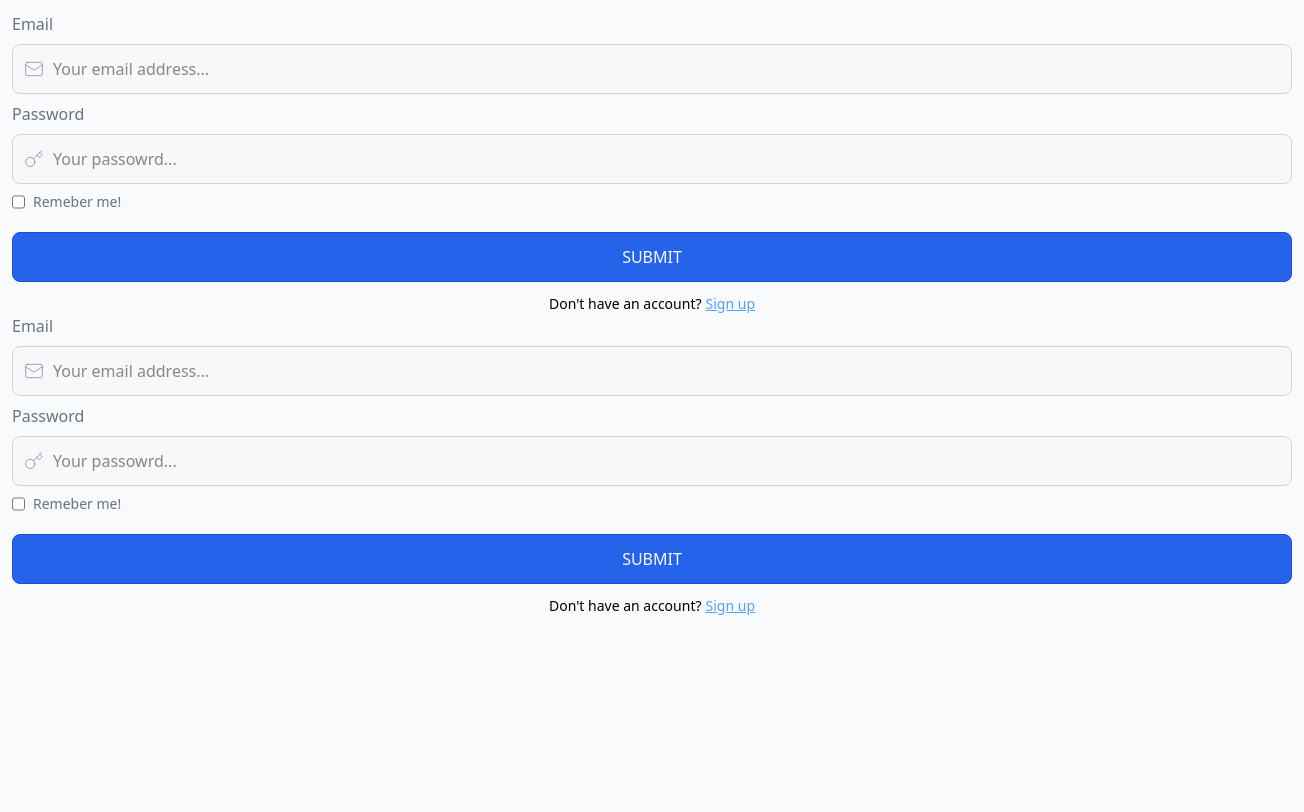
Test: Login Form › check validation › email validation
Click the 1st button "SUBMIT": (652, 257) [12, 232, 1292, 282]
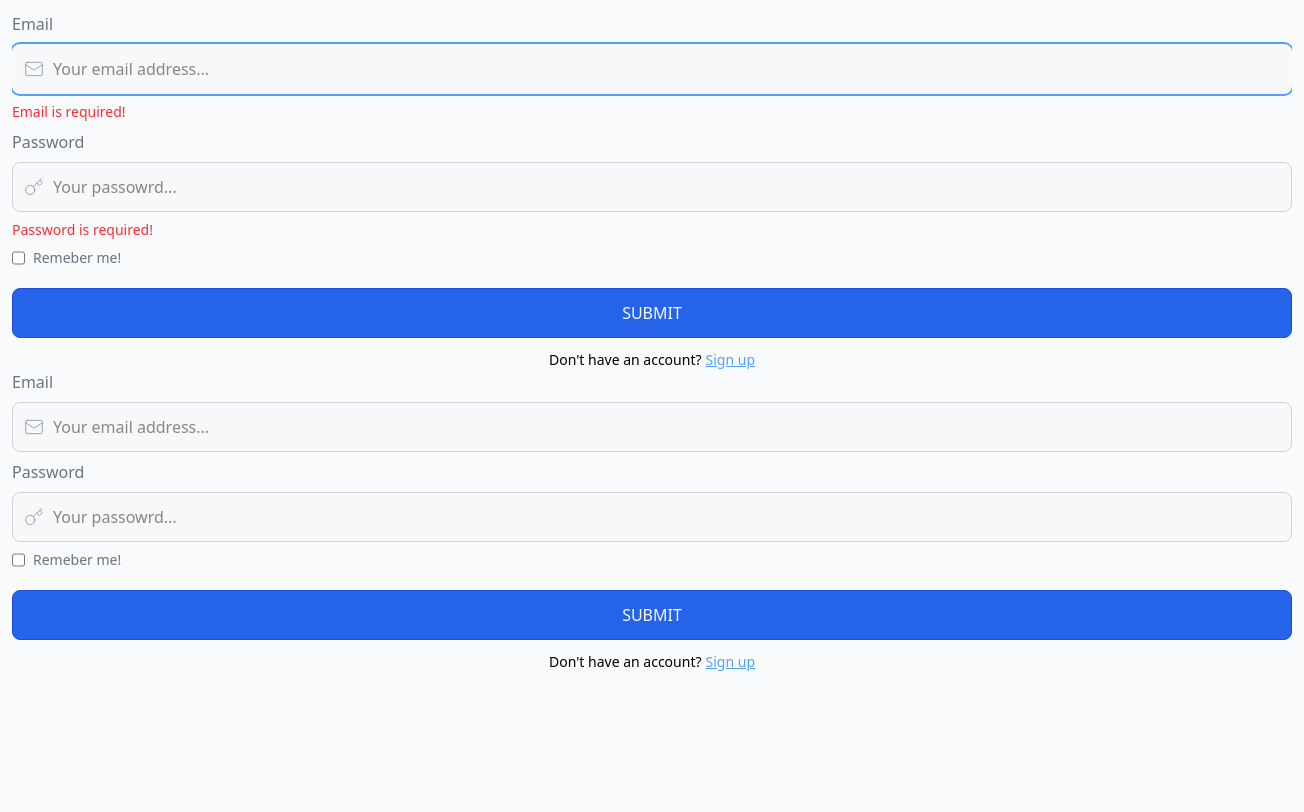
Now the text "Email is required!" is shown, box [12, 102, 126, 121]
